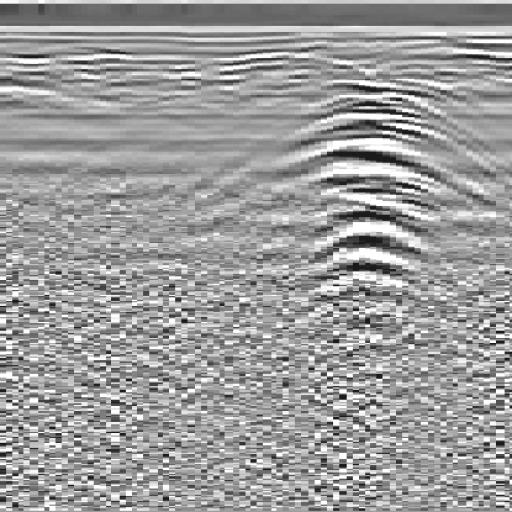metalic: (190, 70, 512, 344)
